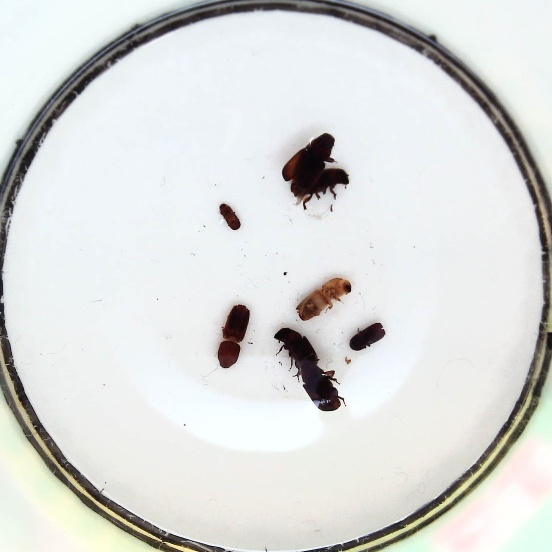acuminatus: (218, 204, 242, 230)
boerner: (297, 276, 351, 321), (215, 304, 252, 369)
leconte: (282, 132, 337, 193), (300, 362, 344, 413), (301, 167, 353, 208), (275, 326, 318, 372)
linnaeus: (348, 322, 386, 352)
